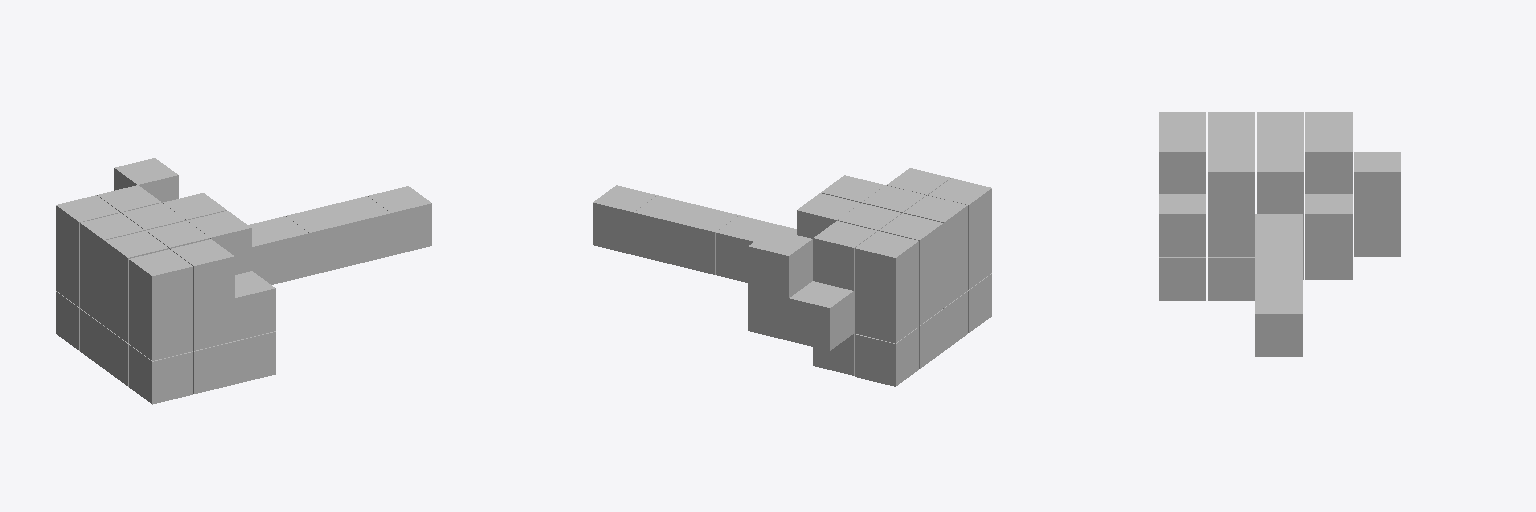
Rendered from branch.obj.
3 renders of one model, left to right at view 1: azimuth 30°, elevation 25°; view 2: azimuth 150°, elevation 25°; view 3: azimuth 270°, elevation 25°, orthographic.
Visible parts, largest first — view 1: Cube.031_Cube.017, Cube.039, Cube.027_Cube.013, Cube.018_Cube.033, Cube.004, Cube.003, Cube.002, Cube.001, Cube.011, Cube.032_Cube.018, Cube.033_Cube.020, Cube.034_Cube.021 (+16 smaller); view 2: Cube.016_Cube.031, Cube.017_Cube.032, Cube.034_Cube.021, Cube.042, Cube.026_Cube.012, Cube.030_Cube.016, Cube.004, Cube.002, Cube.003, Cube.001, Cube.033_Cube.020, Cube.032_Cube.018 (+14 smaller); view 3: Cube.004, Cube.009_Cube.025, Cube.026_Cube.012, Cube.011, Cube.017_Cube.032, Cube.018_Cube.033, Cube.022_Cube.007, Cube.023_Cube.008, Cube.035_Cube.022, Cube.036, Cube.007_Cube.023, Cube.010_Cube.026 (+11 smaller).
Boxes of the visible parts, x1=… form: Cube.031_Cube.017: x1=129, y1=249, x2=192, y2=317; Cube.039: x1=129, y1=344, x2=192, y2=404; Cube.027_Cube.013: x1=129, y1=302, x2=192, y2=360; Cube.018_Cube.033: x1=170, y1=239, x2=234, y2=308; Cube.004: x1=368, y1=186, x2=431, y2=255; Cube.003: x1=327, y1=196, x2=390, y2=265; Cube.002: x1=286, y1=206, x2=349, y2=275; Cube.001: x1=248, y1=216, x2=308, y2=284; Cube.011: x1=235, y1=271, x2=275, y2=340; Cube.032_Cube.018: x1=104, y1=231, x2=168, y2=300; Cube.033_Cube.020: x1=80, y1=213, x2=144, y2=282; Cube.034_Cube.021: x1=56, y1=195, x2=119, y2=264; Cube.016_Cube.031: x1=789, y1=281, x2=853, y2=350; Cube.017_Cube.032: x1=748, y1=229, x2=812, y2=298; Cube.034_Cube.021: x1=855, y1=231, x2=918, y2=300; Cube.042: x1=855, y1=327, x2=918, y2=386; Cube.026_Cube.012: x1=813, y1=221, x2=876, y2=289; Cube.030_Cube.016: x1=855, y1=284, x2=918, y2=343; Cube.004: x1=593, y1=185, x2=656, y2=254; Cube.002: x1=675, y1=205, x2=738, y2=274; Cube.003: x1=634, y1=195, x2=697, y2=264; Cube.001: x1=716, y1=215, x2=779, y2=282; Cube.033_Cube.020: x1=879, y1=213, x2=943, y2=282; Cube.032_Cube.018: x1=903, y1=195, x2=967, y2=264; Cube.004: x1=1255, y1=294, x2=1302, y2=356; Cube.009_Cube.025: x1=1305, y1=194, x2=1352, y2=256; Cube.026_Cube.012: x1=1305, y1=132, x2=1352, y2=193; Cube.011: x1=1159, y1=194, x2=1205, y2=256; Cube.017_Cube.032: x1=1354, y1=152, x2=1400, y2=214; Cube.018_Cube.033: x1=1159, y1=132, x2=1205, y2=193; Cube.022_Cube.007: x1=1208, y1=152, x2=1254, y2=213; Cube.023_Cube.008: x1=1257, y1=152, x2=1303, y2=213; Cube.035_Cube.022: x1=1159, y1=257, x2=1205, y2=300; Cube.036: x1=1208, y1=257, x2=1254, y2=300; Cube.007_Cube.023: x1=1208, y1=214, x2=1254, y2=256; Cube.010_Cube.026: x1=1354, y1=214, x2=1400, y2=256.
Bounding box in the file's own units: 16.03 × 6.02 × 10.23.